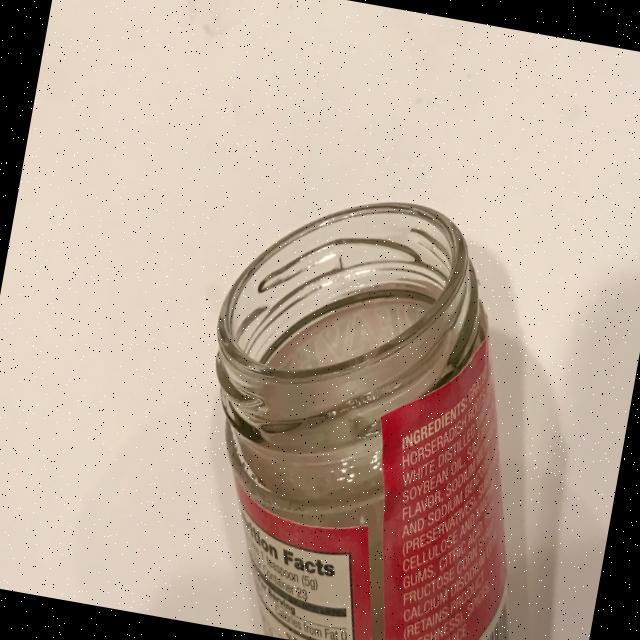glass: (165, 172, 593, 640)
